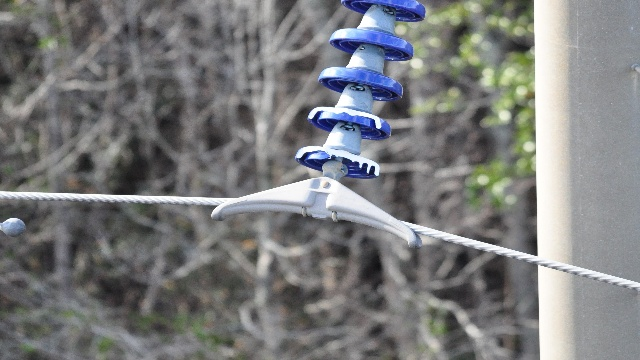broken_local: (294, 146, 381, 178), (307, 104, 385, 130)
insulator_unspecified: (295, 0, 425, 180)
